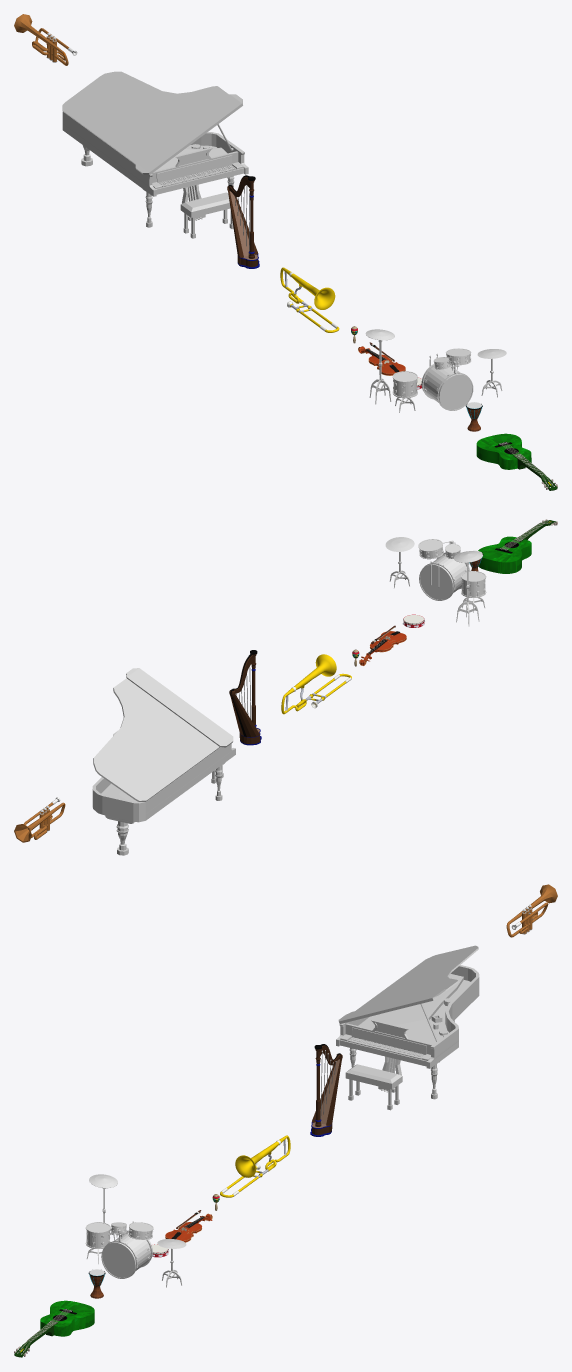
The model's file is instruments.fbx.
The picture shows the model from 3 angles, top to bottom: view 1: azimuth 30°, elevation 25°; view 2: azimuth 150°, elevation 25°; view 3: azimuth 330°, elevation 25°; orthographic projection.
Visible parts, largest first — view 1: piano, harpe, guitar, 1_c, trumpet, Static_part.001, 2_c; view 2: piano, guitar, harpe, 1_c, Static_part.001, trumpet, violon, 2_c, 2_cp2; view 3: piano, guitar, harpe, 1_c, trumpet, Static_part.001.
Boxes of the visible parts, <box> form: piano: <box>62,71,248,238</box>; harpe: <box>227,175,259,268</box>; guitar: <box>476,433,557,490</box>; 1_c: <box>421,363,473,410</box>; trumpet: <box>14,14,77,65</box>; Static_part.001: <box>280,267,335,312</box>; 2_c: <box>392,371,417,398</box>; piano: <box>92,668,235,855</box>; guitar: <box>478,519,557,573</box>; harpe: <box>229,650,261,745</box>; 1_c: <box>419,552,470,600</box>; Static_part.001: <box>281,654,336,714</box>; trumpet: <box>14,797,65,842</box>; violon: <box>359,631,406,665</box>; 2_c: <box>461,571,486,597</box>; 2_cp2: <box>418,539,443,559</box>; piano: <box>336,945,479,1110</box>; guitar: <box>14,1300,94,1357</box>; harpe: <box>310,1044,342,1136</box>; 1_c: <box>101,1230,152,1278</box>; trumpet: <box>506,884,557,937</box>; Static_part.001: <box>235,1135,290,1177</box>.
Bounding box in the file's own units: 1281 × 1187 × 10224.
